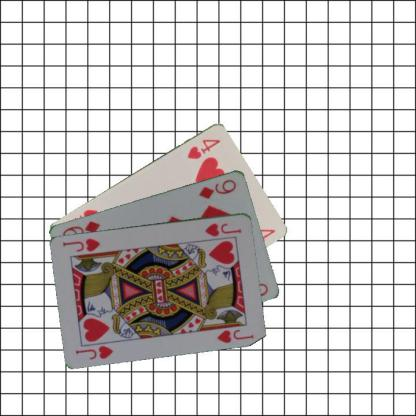4h: (184, 136, 222, 161)
9d: (196, 176, 237, 201)
Jh: (73, 342, 114, 361), (202, 220, 243, 238)
